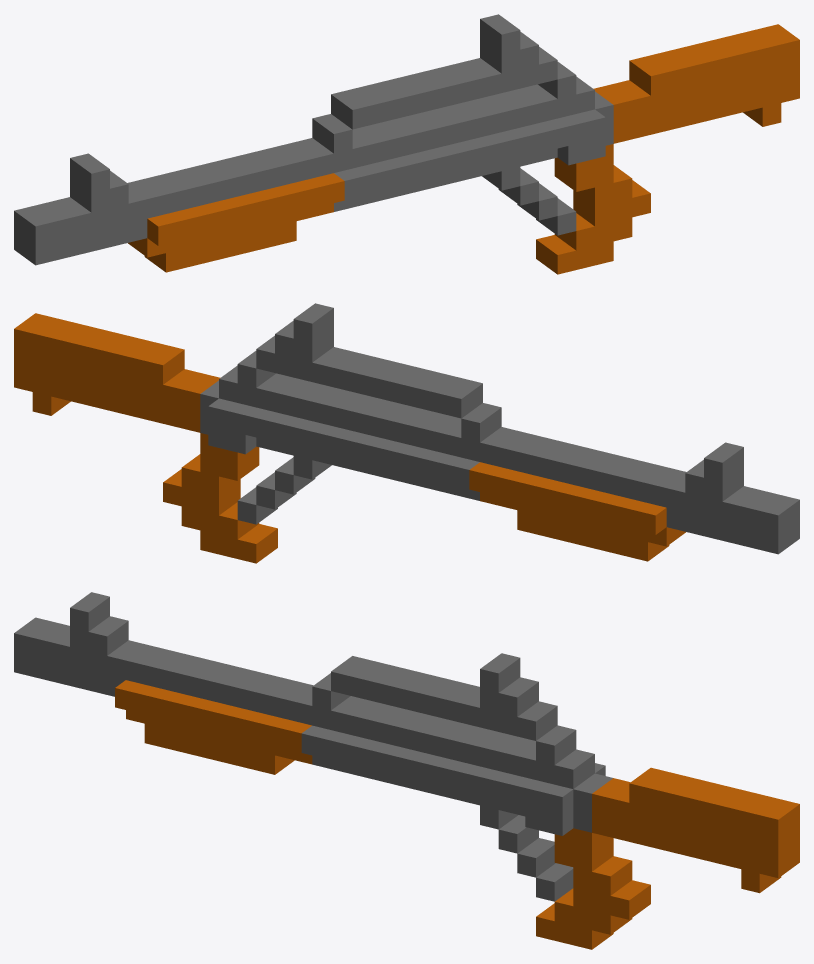
Rendered from sub machine gun.obj.
3 views of the same model, one above another, from view 1: azimuth 30°, elevation 25°; view 2: azimuth 150°, elevation 25°; view 3: azimuth 330°, elevation 25° (orthographic).
Size of the model in its own units: 4.1 by 1.3 by 0.4.
Materials: 1 (1 with a texture image).
